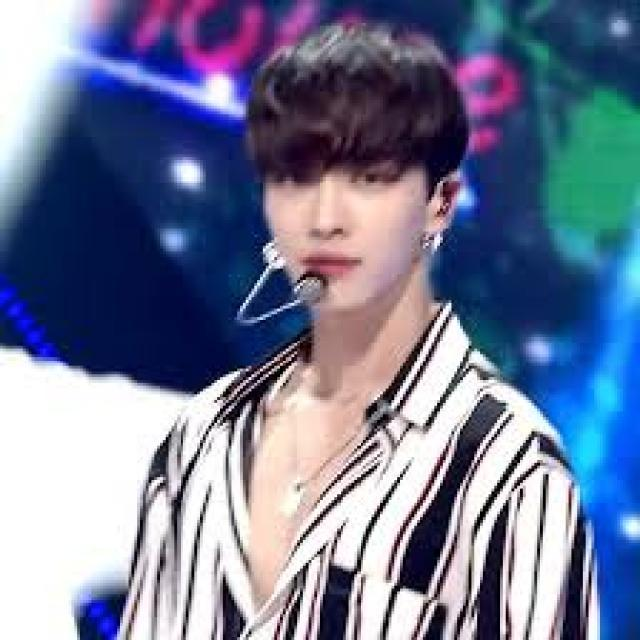earphone: (424, 168, 461, 242)
